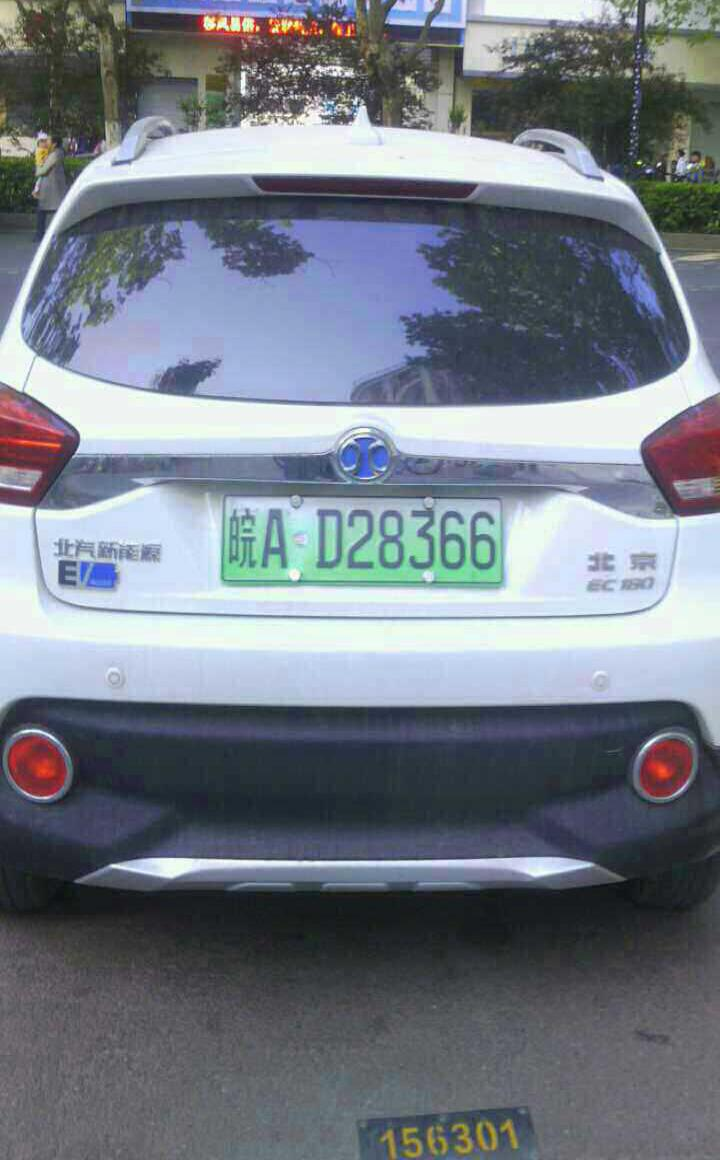car_id: (218, 494, 504, 583)
